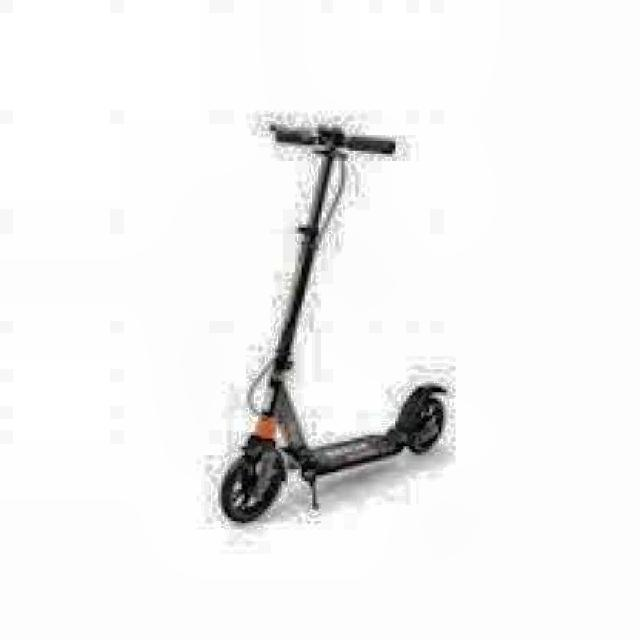bike: (221, 115, 458, 524)
